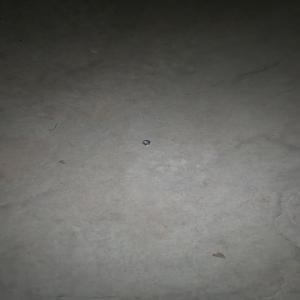Nut: (140, 139, 150, 145)
